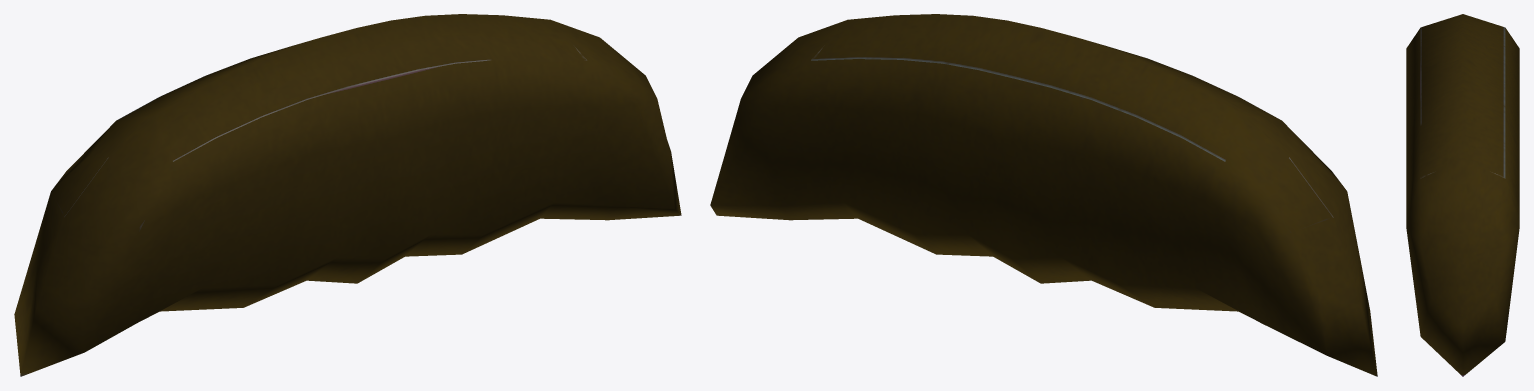
Rendered from moustache 1.fbx.
3 renders of one model, left to right at view 1: azimuth 30°, elevation 25°; view 2: azimuth 150°, elevation 25°; view 3: azimuth 270°, elevation 25°, orthographic. The views are drawn at different scales.
Visible parts, largest first — view 1: polySurface13; view 2: polySurface13; view 3: polySurface13.
Part boxes in pixels (x1=…): polySurface13: x1=14, y1=14, x2=681, y2=376; polySurface13: x1=710, y1=14, x2=1377, y2=376; polySurface13: x1=1406, y1=14, x2=1519, y2=376.
Size of the model in its own units: 0.4371 by 0.1687 by 0.0865.
1 material, 1 textured.
